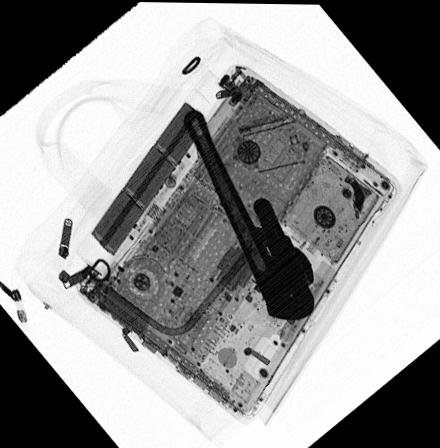Wrench: (181, 107, 316, 322)
